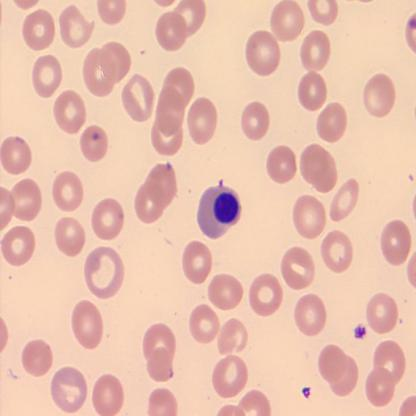NRC: (196, 182, 242, 240)
